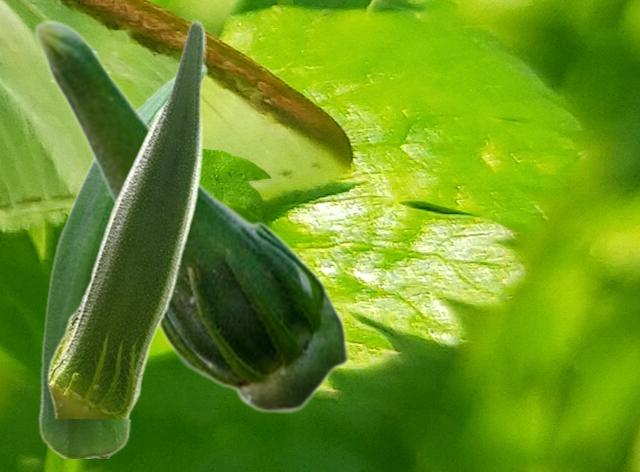okra: (33, 19, 349, 413), (37, 63, 207, 457), (46, 18, 205, 417)
